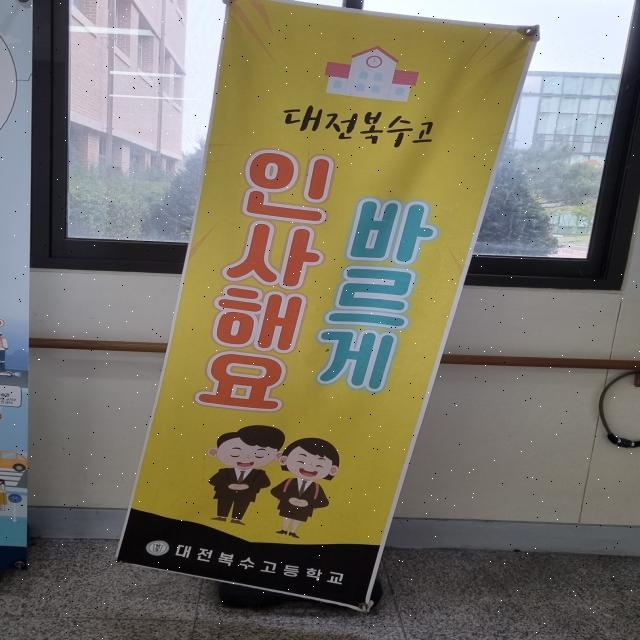logo: (142, 536, 176, 560)
